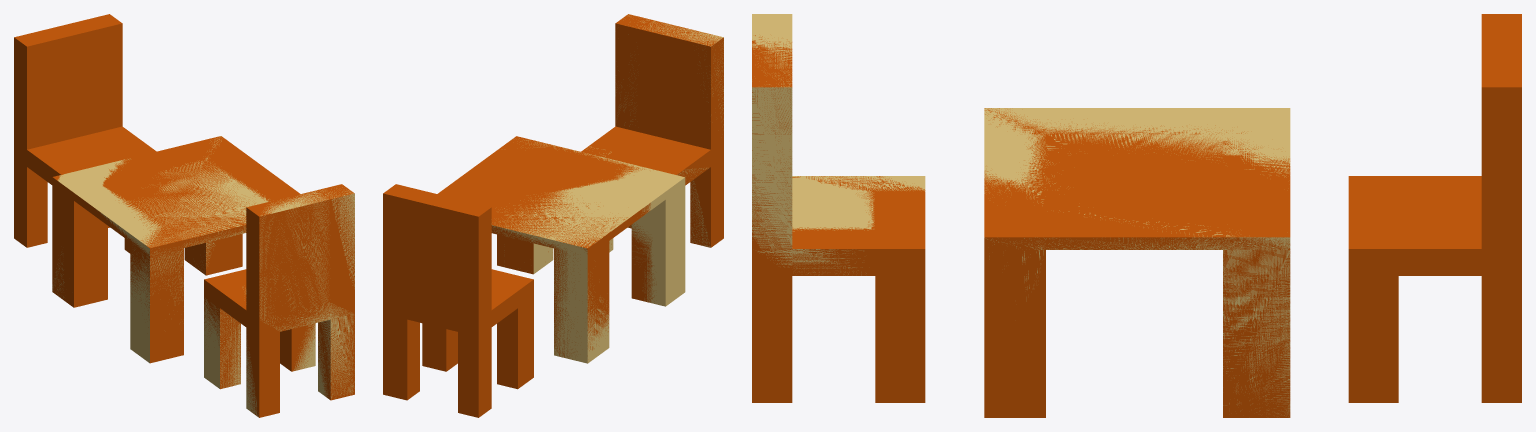
The model's file is TableChair.fbx.
The picture shows the model from 3 angles, left to right: view 1: azimuth 30°, elevation 25°; view 2: azimuth 150°, elevation 25°; view 3: azimuth 270°, elevation 25°; orthographic projection. The views are drawn at different scales.
Parts seen in each view (by area): view 1: Cube.005, Cube.003, Cube.004, Cube, Cube.002; view 2: Cube.004, Cube.003, Cube, Cube.005, Cube.002; view 3: Cube.005, Cube.004, Cube.003, Cube, Cube.002.
Part boxes in pixels (x1,y1,x2,y2): Cube.005: [52, 136, 300, 363]; Cube.003: [204, 184, 354, 417]; Cube.004: [14, 14, 156, 253]; Cube: [52, 136, 268, 363]; Cube.002: [204, 187, 354, 416]; Cube.004: [383, 184, 533, 417]; Cube.003: [581, 14, 723, 247]; Cube: [491, 138, 685, 363]; Cube.005: [437, 136, 656, 357]; Cube.002: [586, 14, 723, 252]; Cube.005: [984, 108, 1290, 417]; Cube.004: [1348, 14, 1521, 402]; Cube.003: [752, 35, 925, 402]; Cube: [984, 108, 1290, 417]; Cube.002: [752, 14, 925, 275].
Bounding box in the file's own units: 501 × 571 × 1260.
